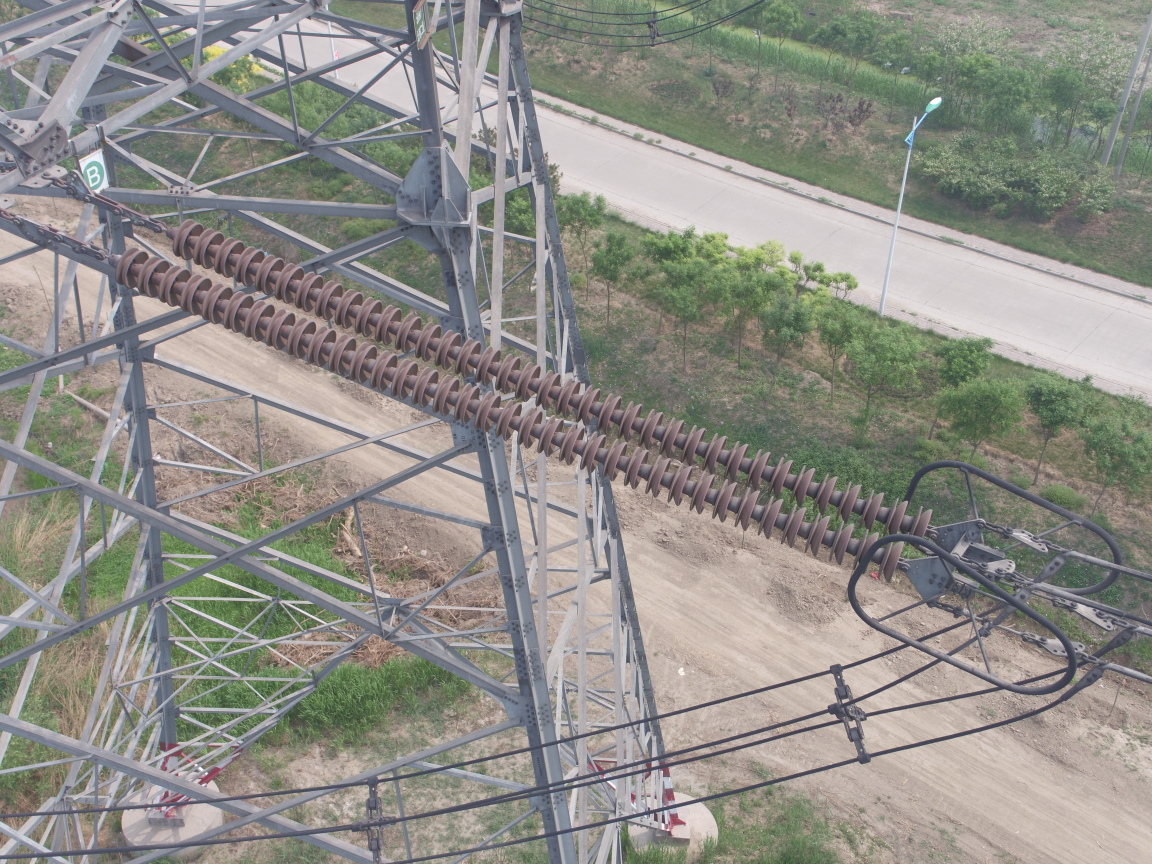insulator: (92, 210, 937, 584)
